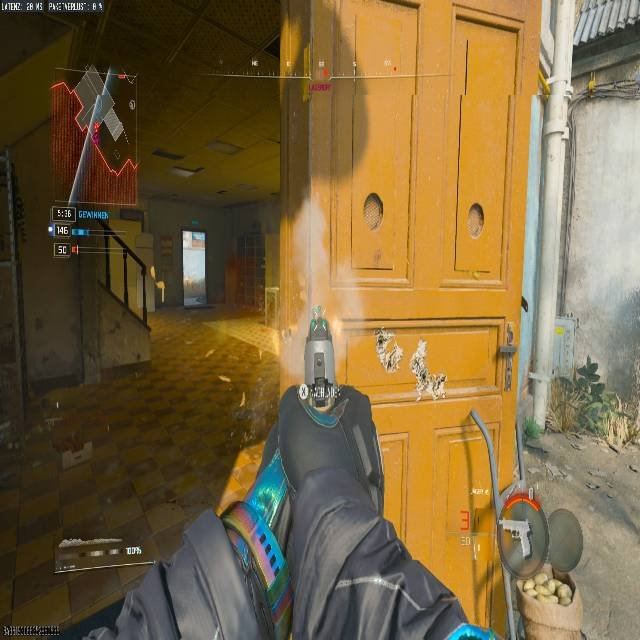player: (411, 355, 446, 403), (411, 341, 429, 386)
